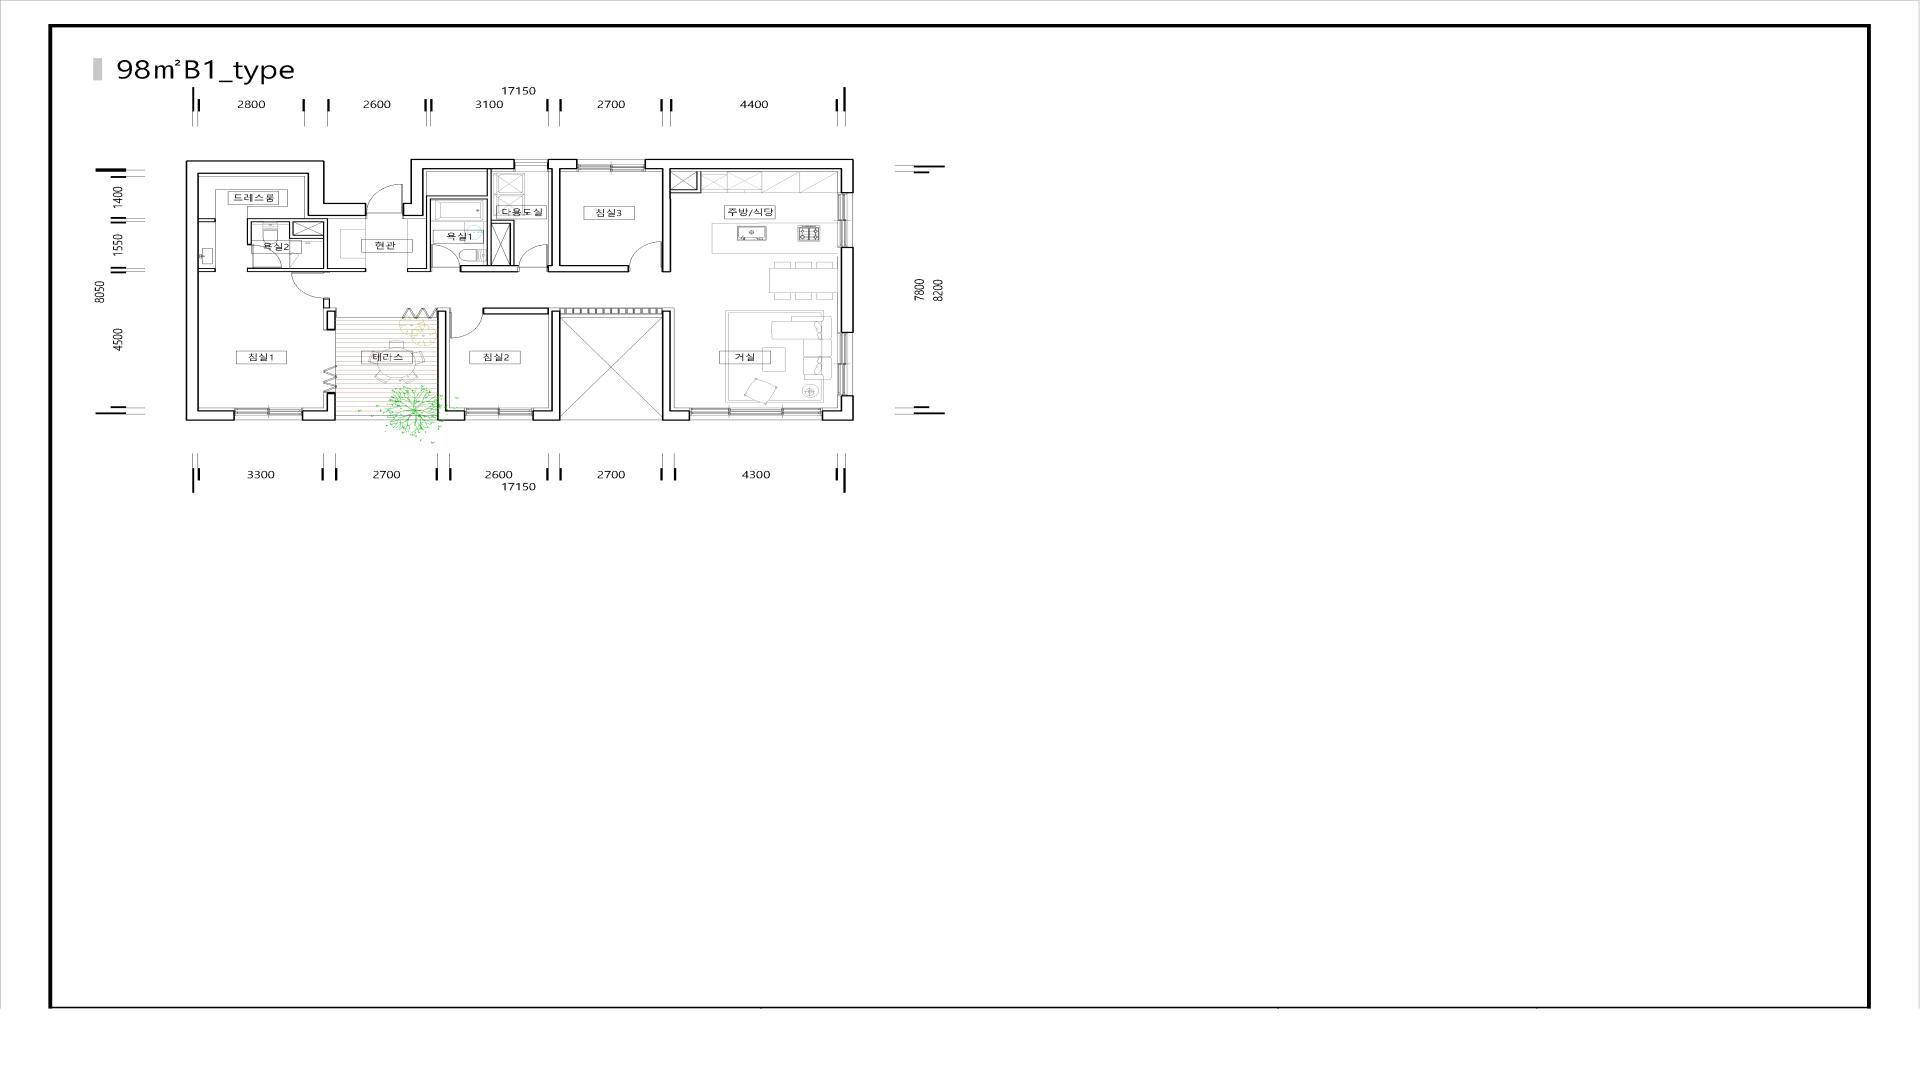door: (365, 183, 404, 219), (629, 241, 662, 273), (450, 307, 483, 339), (291, 272, 330, 298), (247, 244, 282, 268), (431, 244, 460, 273), (518, 244, 547, 273), (289, 252, 299, 268)
wall: (186, 160, 365, 421), (645, 160, 853, 273), (407, 169, 518, 273), (547, 160, 629, 273), (404, 158, 514, 216), (247, 219, 367, 272), (436, 310, 464, 421), (662, 310, 690, 421), (534, 311, 560, 421), (840, 248, 853, 332), (303, 393, 336, 421), (823, 396, 853, 421), (492, 224, 509, 265), (671, 171, 702, 194), (483, 307, 549, 315), (326, 310, 336, 330), (323, 298, 330, 309), (199, 218, 216, 222), (199, 268, 216, 272)
window: (690, 407, 823, 421), (336, 307, 436, 318), (837, 332, 853, 396), (560, 309, 662, 318), (233, 407, 303, 421), (464, 407, 534, 421), (837, 193, 853, 248), (323, 330, 336, 393), (576, 160, 645, 171), (513, 158, 549, 171)
